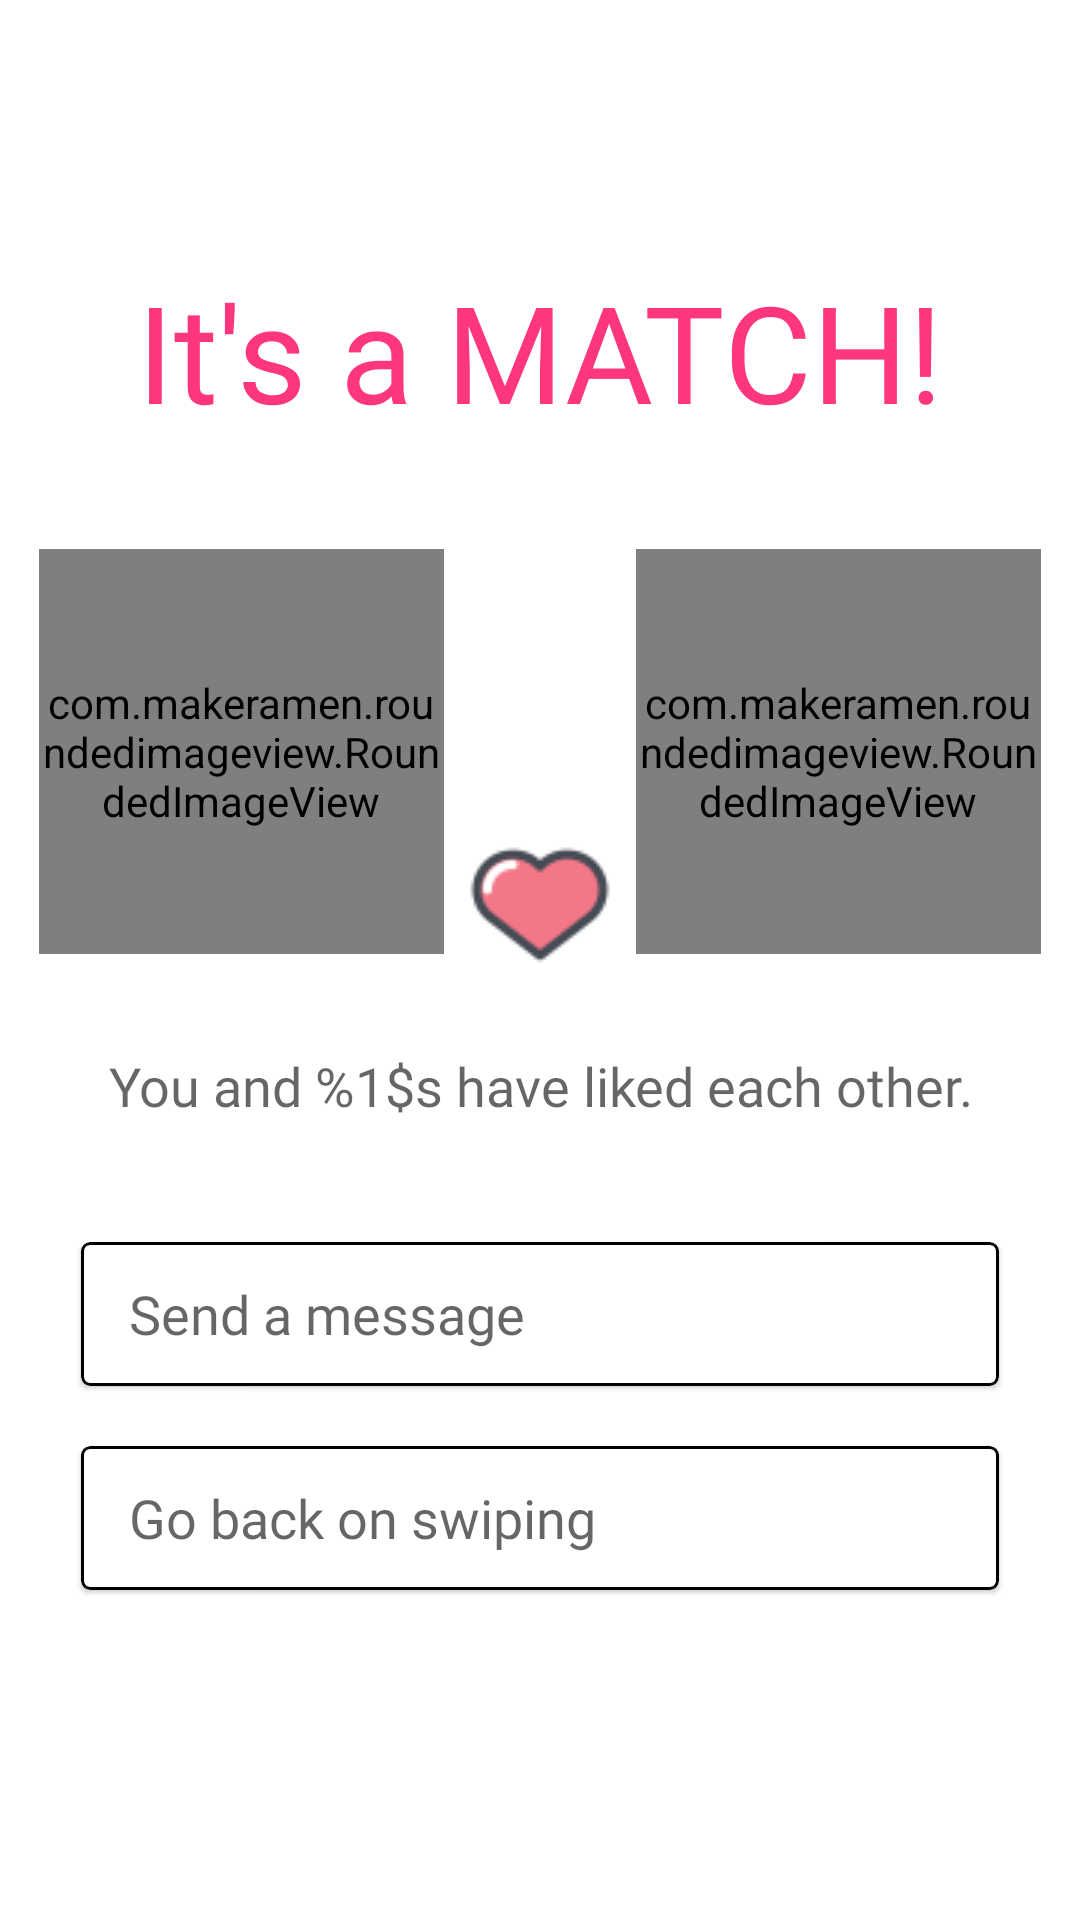

Icon bounding boxes for this 1080px x 1920px phone screenshot, format [x1,y1,x2,y2]:
heart: [470,848,610,962]
